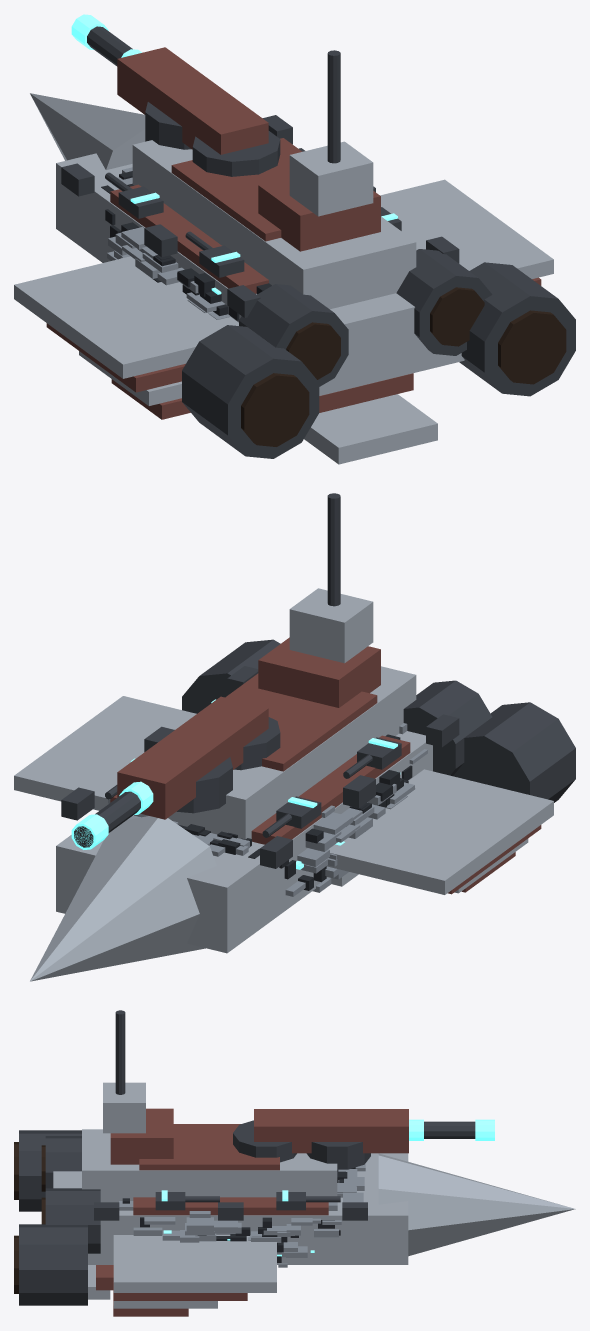
File: troyden_capital.glb
3 views of the same model, one above another, from view 1: azimuth 30°, elevation 25°; view 2: azimuth 150°, elevation 25°; view 3: azimuth 270°, elevation 25° (orthographic). The views are drawn at different scales.
Visible parts, largest first — view 1: hull, engines, turret_1, turret_0, aux_0, aux_2, pd_0, pd_2, pd_4; view 2: hull, engines, turret_0, turret_1, aux_0, aux_2, pd_1, pd_4, pd_2, pd_0; view 3: hull, engines, turret_0, turret_1, aux_3, aux_1, pd_1, pd_3, pd_5.
Part boxes in pixels (box(x1,y1,x2,y2)): hull: box(14, 50, 553, 464); engines: box(182, 249, 575, 458); turret_1: box(121, 49, 280, 176); turret_0: box(71, 14, 220, 149); aux_0: box(105, 172, 163, 218); aux_2: box(185, 231, 244, 277); pd_0: box(61, 163, 94, 196); pd_2: box(144, 224, 177, 257); pd_4: box(227, 285, 260, 317); hull: box(14, 493, 553, 981); engines: box(182, 639, 575, 802); turret_0: box(71, 732, 232, 849); turret_1: box(119, 696, 280, 815); aux_0: box(262, 796, 321, 837); aux_2: box(343, 737, 401, 778); pd_1: box(61, 787, 94, 820); pd_4: box(426, 714, 459, 747); pd_2: box(343, 775, 375, 808); pd_0: box(260, 836, 292, 868); hull: box(53, 1010, 575, 1316); engines: box(14, 1130, 100, 1305); turret_0: box(306, 1109, 494, 1169); turret_1: box(233, 1109, 423, 1162); aux_3: box(155, 1190, 219, 1210); aux_1: box(276, 1190, 340, 1210); pd_1: box(342, 1202, 367, 1220); pd_3: box(218, 1202, 243, 1220); pd_5: box(94, 1202, 119, 1220).
Size of the model in its own units: 137 by 109 by 207.
